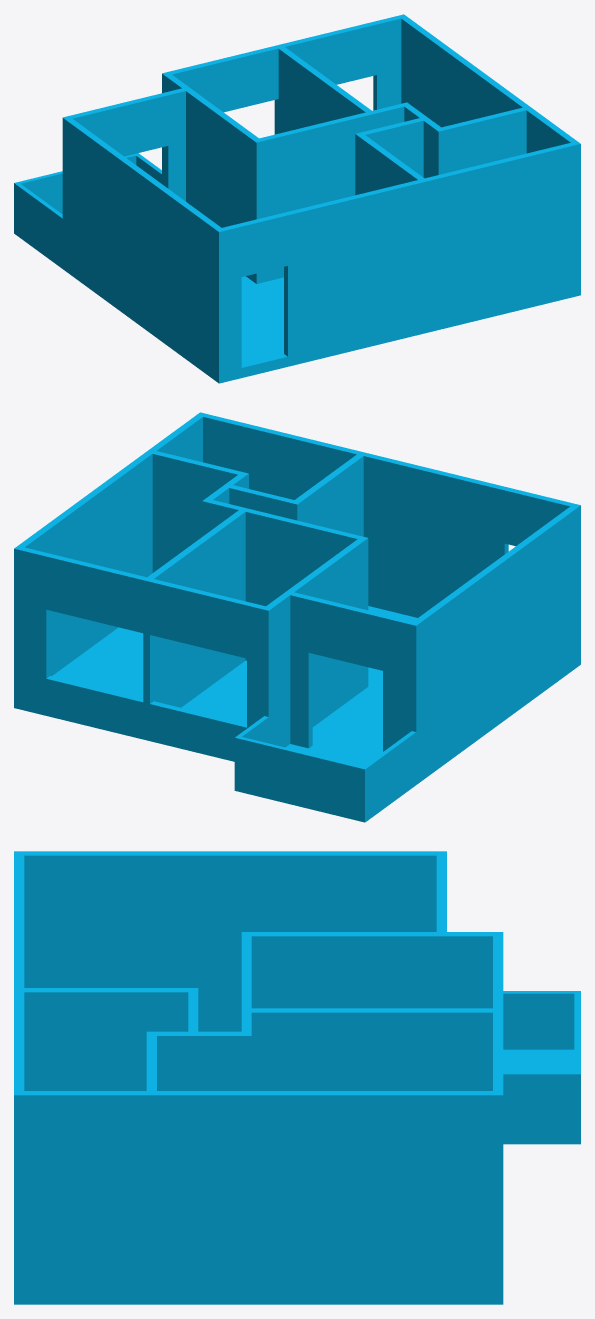
3 renders of one model, top to bottom at view 1: azimuth 30°, elevation 25°; view 2: azimuth 150°, elevation 25°; view 3: azimuth 270°, elevation 25°, orthographic. The views are drawn at different scales.
Size of the model in its own units: 8.5 by 3.4 by 8.35.
